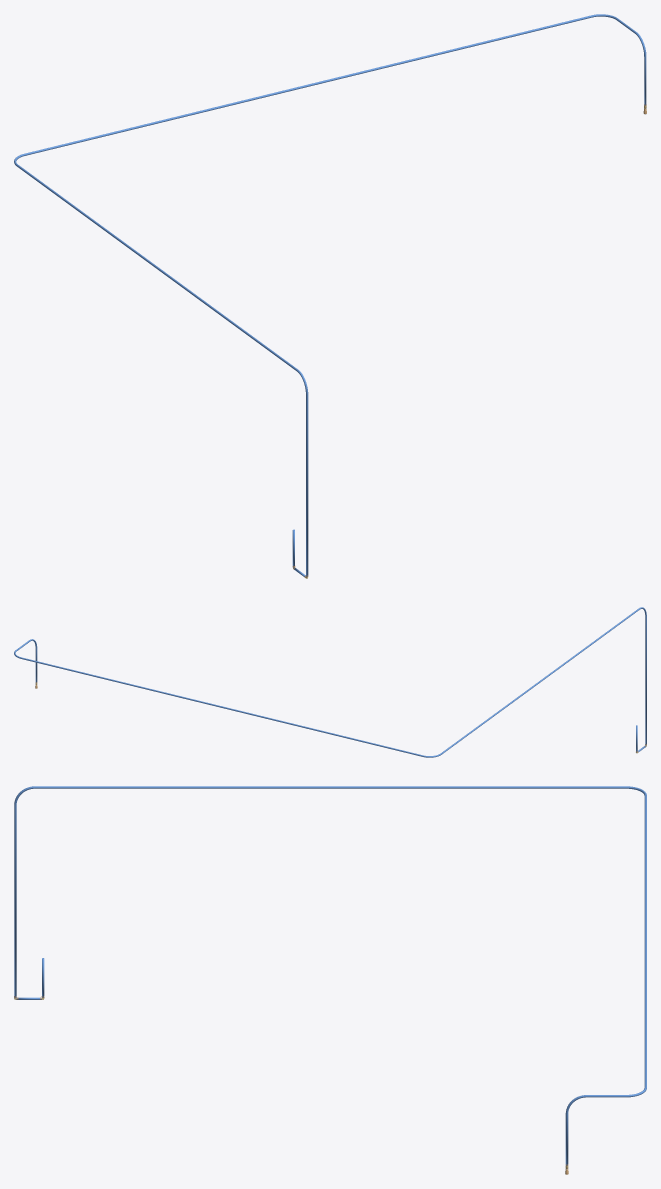
File: slab_pipes_supply__water__02f41b66.glb
3 views of the same model, one above another, from view 1: azimuth 30°, elevation 25°; view 2: azimuth 150°, elevation 25°; view 3: azimuth 270°, elevation 25° (orthographic). The views are drawn at different scales.
Visible parts, largest first — view 1: pipe_supply_well_to_house_fs__pex; view 2: pipe_supply_well_to_house_fs__pex; view 3: pipe_supply_well_to_house_fs__pex.
Boxes of the visible parts, x1,y1,x2,y2 form: pipe_supply_well_to_house_fs__pex: (14, 14, 646, 576); pipe_supply_well_to_house_fs__pex: (14, 607, 646, 757); pipe_supply_well_to_house_fs__pex: (14, 786, 646, 1165).
Bounding box in the file's own units: 6.61 × 2.12 × 5.7.
